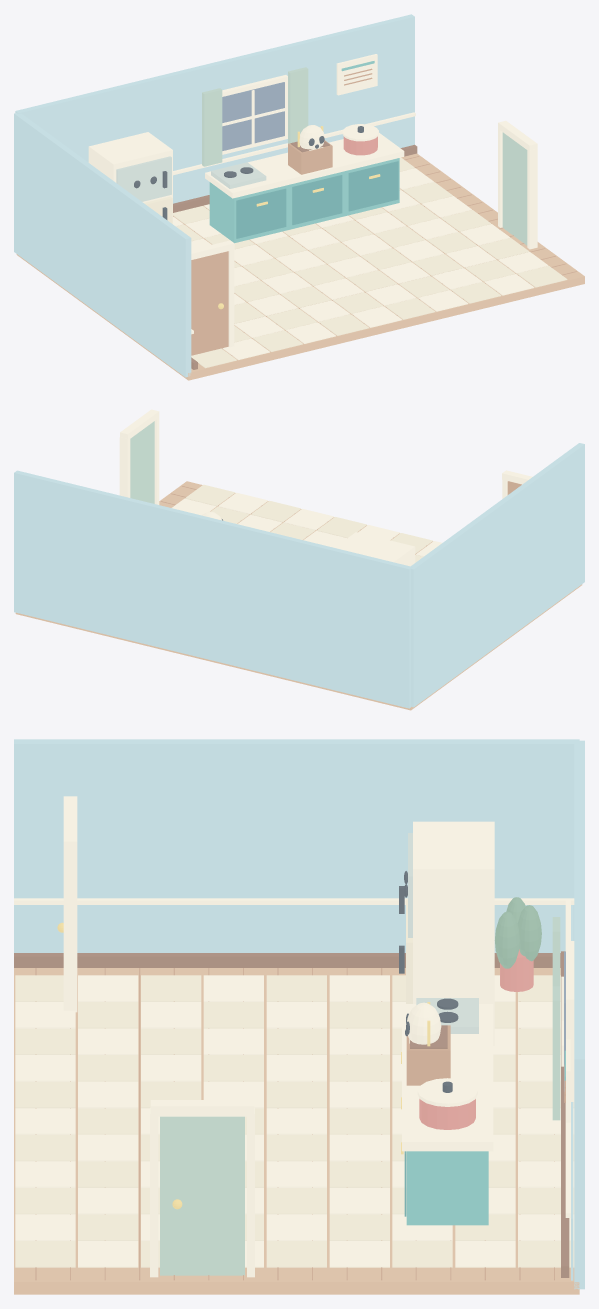
The model's file is house-kitchen.glb.
3 renders of one model, top to bottom at view 1: azimuth 30°, elevation 25°; view 2: azimuth 150°, elevation 25°; view 3: azimuth 270°, elevation 25°, orthographic. The views are drawn at different scales.
Parts seen in each view (by area): view 1: Left_wall.001, Back_wall.001, Floor.001, Door_Living_panel, Counter_top, Window_evening, Counter_cabinet, Door_Yard_panel, Back_wainscot.001, Fridge_body, Cabinet_line.001, Cabinet_line (+68 smaller); view 2: Back_wall.001, Left_wall.001, Floor.001, Door_Yard_panel, Fridge_body, Door_Yard_jamb, Tile.071, Tile.098, Tile.080, Tile.089, Tile.062, Door_Yard_jamb.001 (+5 smaller); view 3: Left_wall.001, Floor.001, Fridge_body, Door_Yard_panel, Counter_top, Counter_cabinet, Back_wall.001, Left_skirting.001, Left_trim.001, Door_Living_jamb.001, Door_Yard_lintel, Tile.043 (+85 smaller).
Part boxes in pixels (x1,y1,x2,y2): Left_wall.001: [14, 113, 191, 377]; Back_wall.001: [15, 14, 414, 170]; Floor.001: [16, 153, 584, 380]; Door_Living_panel: [191, 251, 228, 355]; Counter_top: [205, 133, 404, 198]; Window_evening: [222, 82, 284, 150]; Counter_cabinet: [209, 158, 399, 243]; Door_Yard_panel: [502, 132, 527, 245]; Back_wainscot.001: [173, 116, 414, 203]; Fridge_body: [88, 132, 172, 223]; Cabinet_line.001: [292, 175, 342, 224]; Cabinet_line: [236, 188, 286, 238]; Back_wall.001: [14, 470, 412, 708]; Left_wall.001: [411, 443, 584, 707]; Floor.001: [15, 481, 582, 710]; Door_Yard_panel: [130, 421, 154, 503]; Fridge_body: [334, 532, 415, 566]; Door_Yard_jamb: [119, 437, 130, 497]; Tile.071: [284, 508, 333, 530]; Tile.098: [185, 484, 235, 506]; Tile.080: [251, 500, 300, 522]; Tile.089: [218, 492, 267, 514]; Tile.062: [317, 517, 366, 537]; Door_Yard_jamb.001: [154, 418, 159, 504]; Left_wall.001: [14, 739, 579, 952]; Floor.001: [14, 968, 579, 1294]; Fridge_body: [413, 821, 494, 1045]; Door_Yard_panel: [160, 1116, 244, 1275]; Counter_top: [402, 1004, 493, 1151]; Counter_cabinet: [406, 1151, 488, 1225]; Back_wall.001: [574, 740, 584, 1289]; Left_skirting.001: [14, 953, 563, 967]; Left_trim.001: [14, 898, 574, 904]; Door_Living_jamb.001: [63, 851, 77, 1012]; Door_Yard_lintel: [150, 1100, 254, 1116]; Tile.043: [78, 1081, 138, 1108].
Bounding box in the file's own units: 12.09 × 4.13 × 9.09.
